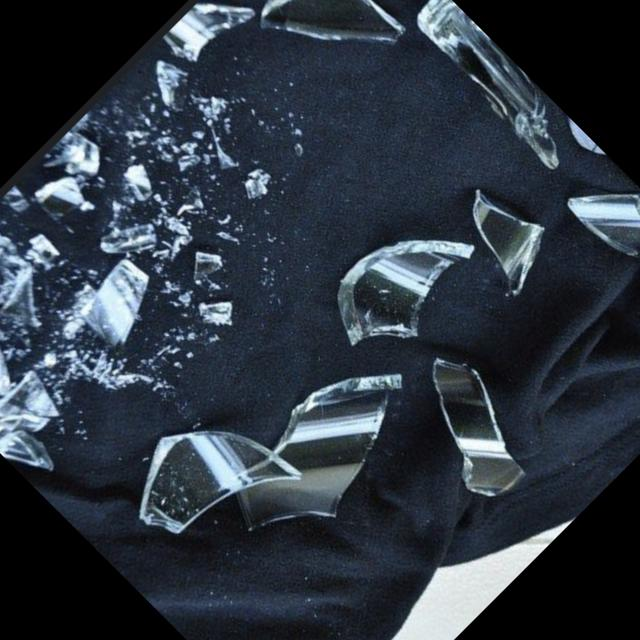PecahanKaca: (108, 285, 441, 618), (402, 0, 589, 175), (383, 339, 557, 513)
